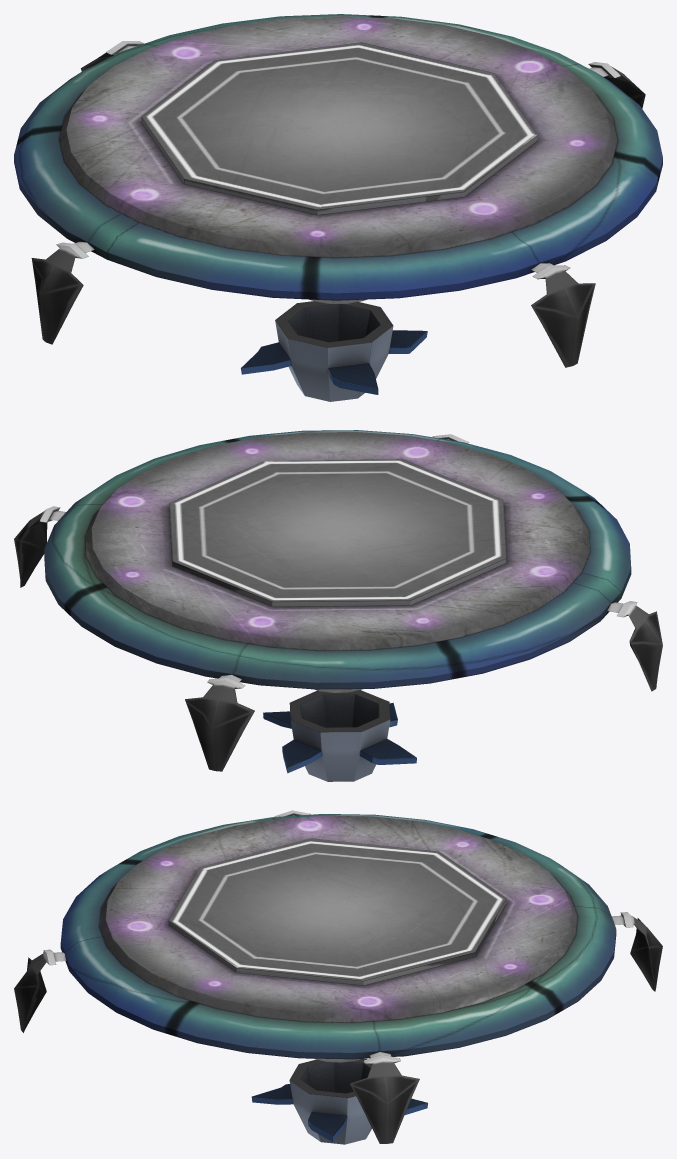
File: Boss-Platform-Point.fbx
The picture shows the model from 3 angles, top to bottom: view 1: azimuth 30°, elevation 25°; view 2: azimuth 150°, elevation 25°; view 3: azimuth 270°, elevation 25°; orthographic projection. The views are drawn at different scales.
Parts seen in each view (by area): view 1: Object001; view 2: Object001; view 3: Object001.
Part boxes in pixels (box(x1,y1,x2,y2)): Object001: box(14, 14, 662, 401); Object001: box(14, 430, 662, 781); Object001: box(14, 810, 662, 1144).
Size of the model in its own units: 1066 by 403 by 1063.
